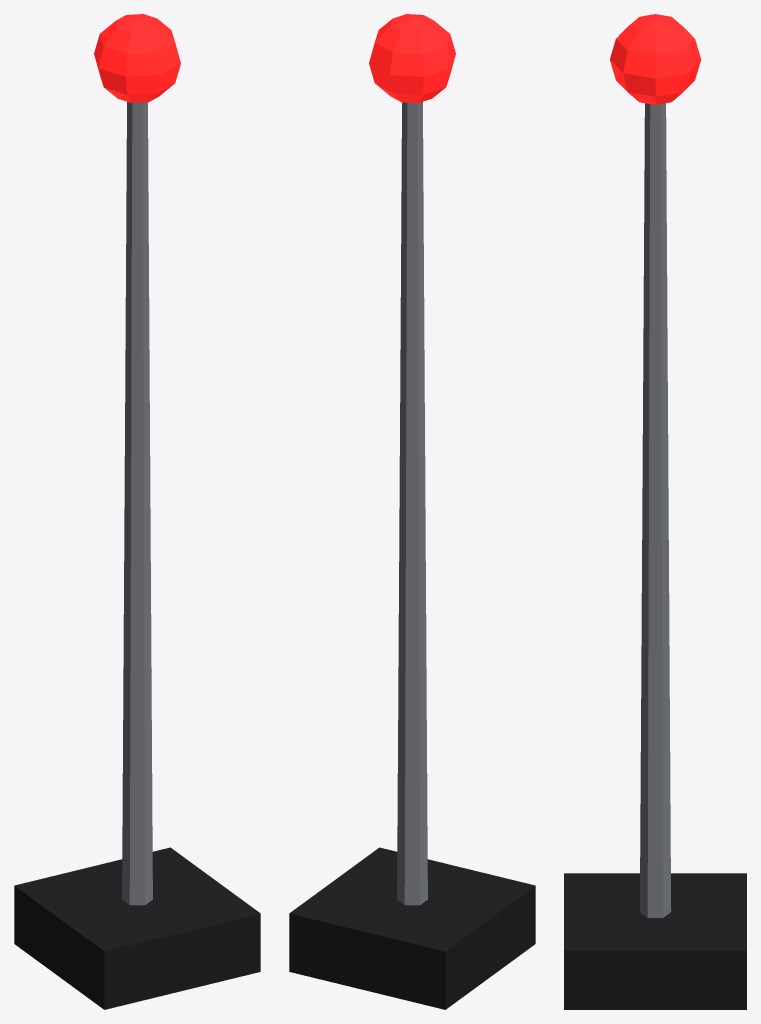
Rendered from rc_antenna.glb.
3 views of the same model, side by side, from view 1: azimuth 30°, elevation 25°; view 2: azimuth 150°, elevation 25°; view 3: azimuth 270°, elevation 25° (orthographic).
Parts seen in each view (by area): view 1: base_rc_black, whip_steel, tip_rc_tip; view 2: base_rc_black, whip_steel, tip_rc_tip; view 3: base_rc_black, whip_steel, tip_rc_tip.
Part boxes in pixels (box(x1,y1,x2,y2)): base_rc_black: box(14, 847, 260, 1009); whip_steel: box(122, 102, 152, 905); tip_rc_tip: box(94, 14, 180, 103); base_rc_black: box(289, 847, 535, 1009); whip_steel: box(397, 102, 427, 905); tip_rc_tip: box(369, 14, 455, 103); base_rc_black: box(564, 873, 746, 1009); whip_steel: box(639, 103, 671, 917); tip_rc_tip: box(610, 14, 700, 104).
Bounding box in the file's own units: 0.14 × 0.805 × 0.14.
